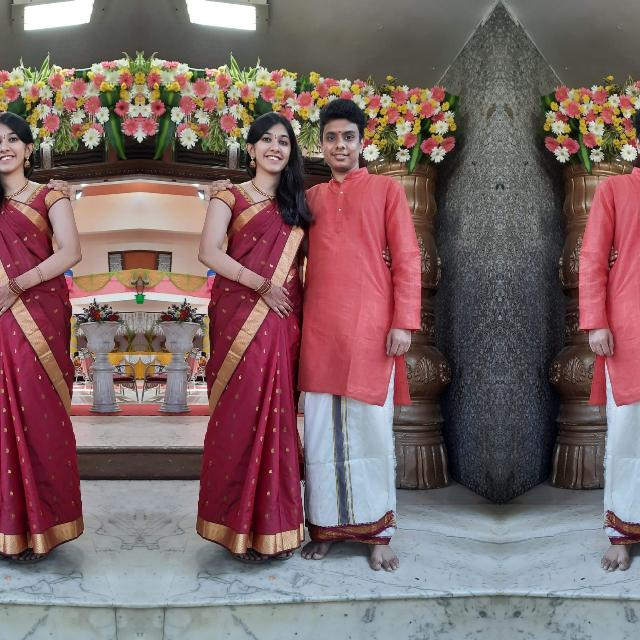person: (306, 90, 420, 568), (205, 114, 308, 568), (0, 114, 73, 568), (579, 89, 640, 568)
